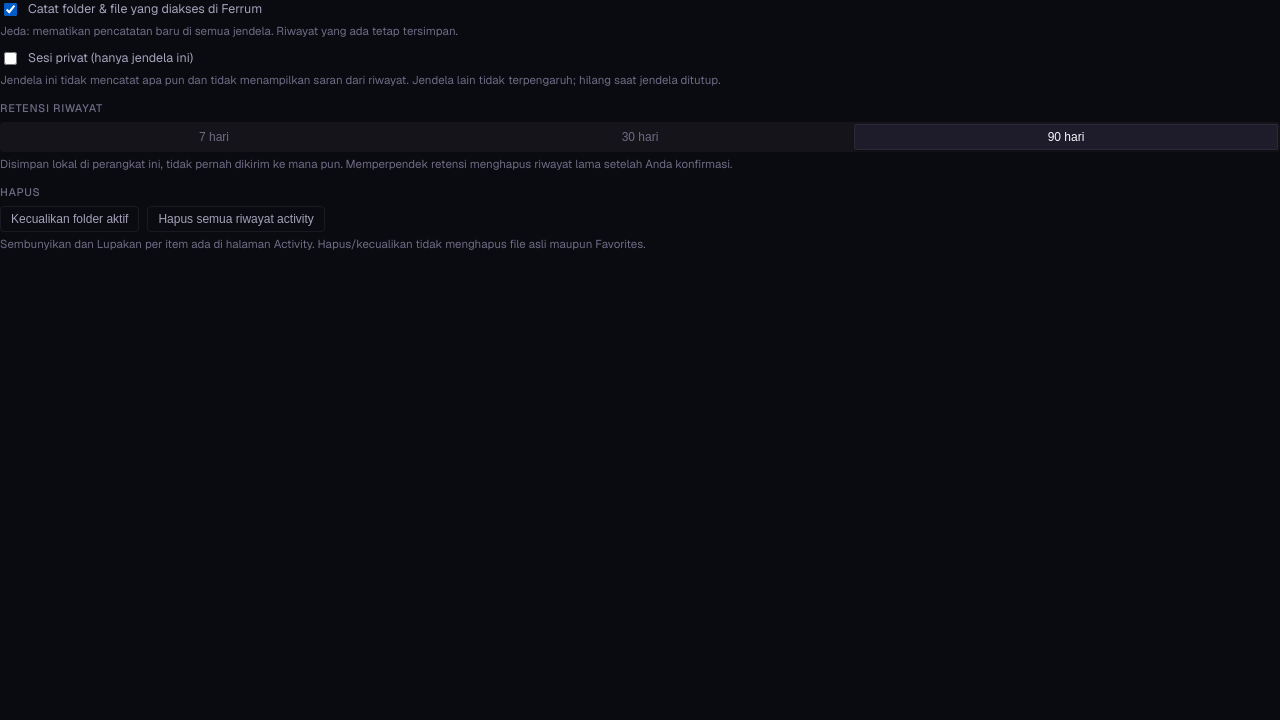
Test case: privacy controls › clear-all previews the scope and does nothing until confirmed
Click the button "Hapus semua riwayat activity": (236, 219) [147, 206, 325, 232]
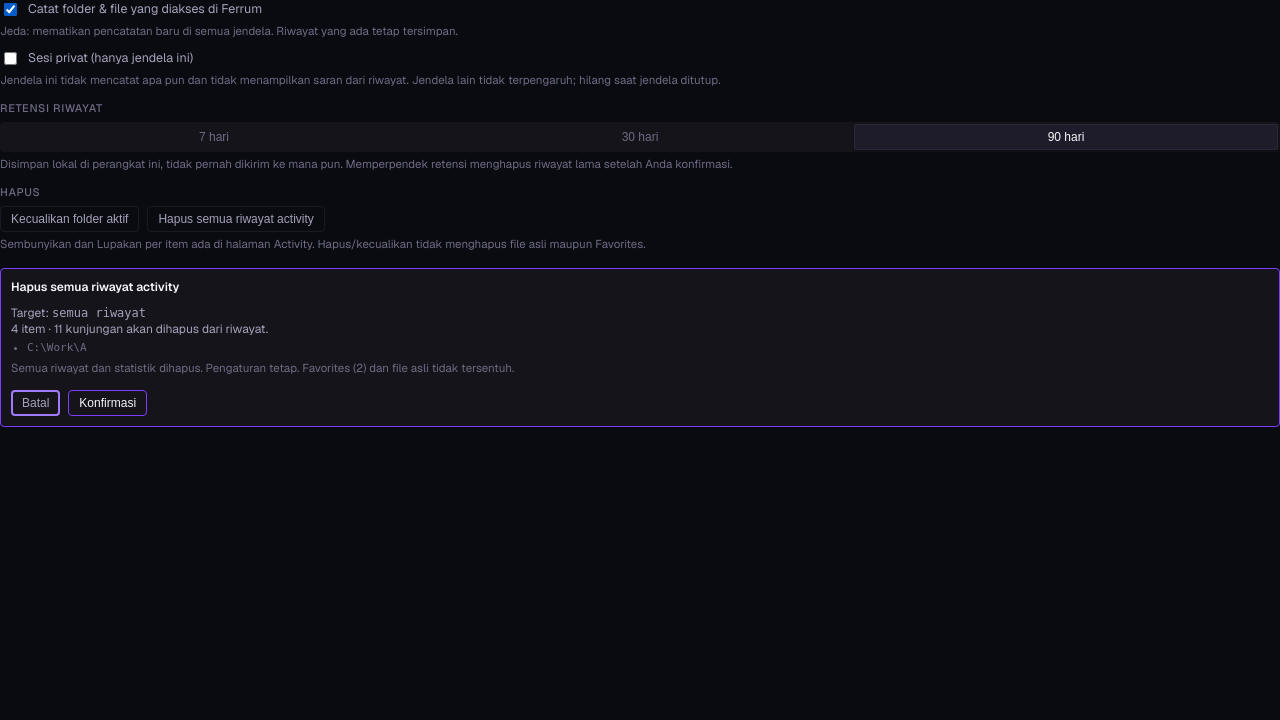
Expected: the dialog shows "4 item", [11, 321, 268, 337]
Expected: the dialog shows "11 kunjungan", [11, 321, 268, 337]
Expected: the dialog shows "Favorites (2)", [11, 360, 514, 375]
Click the button "Batal": (36, 403) [11, 390, 60, 416]
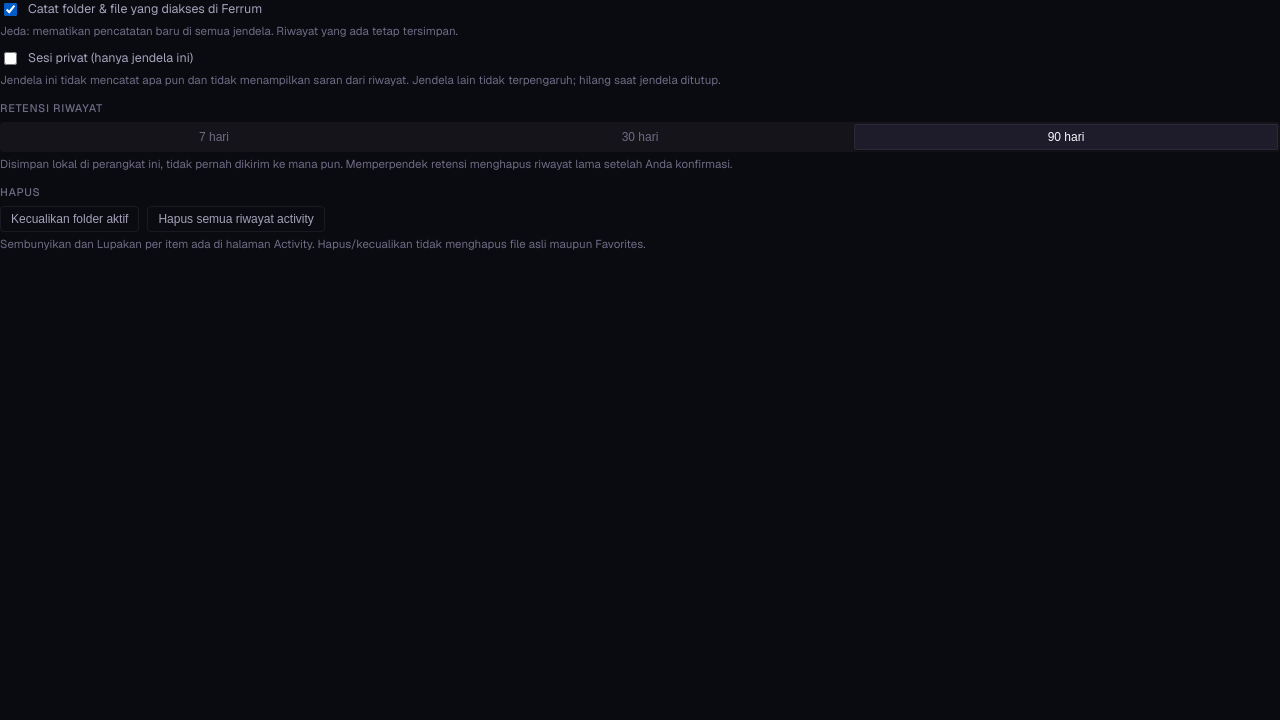
Expected: the dialog is gone
